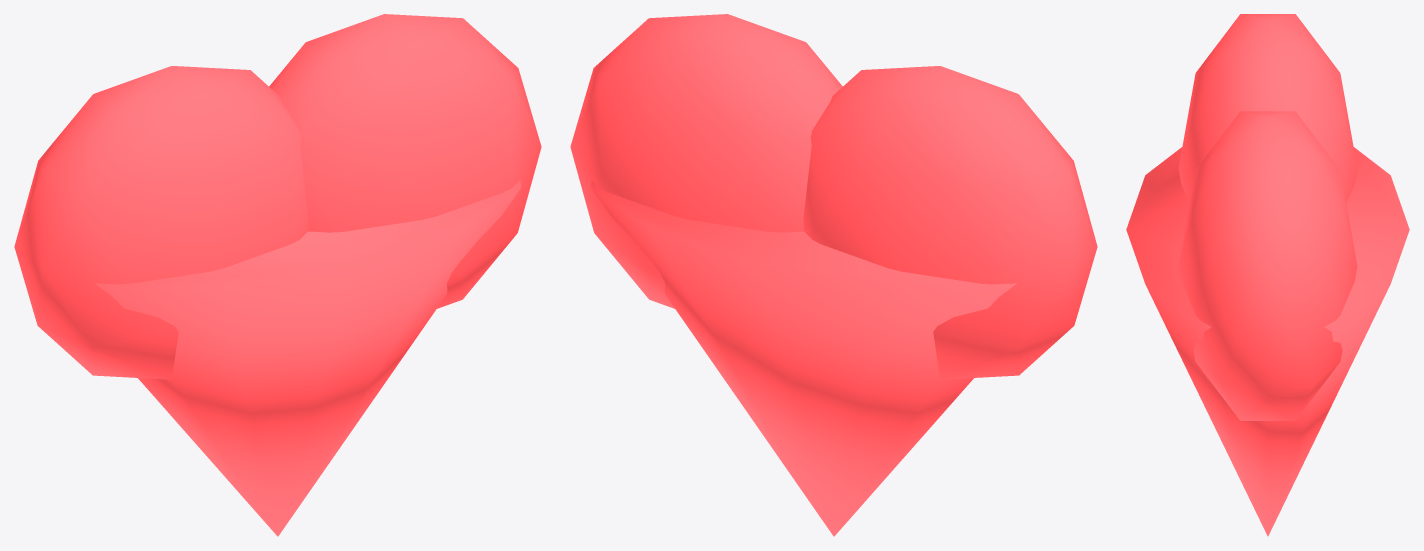
Rendered from heart.glb.
3 views of the same model, side by side, from view 1: azimuth 30°, elevation 25°; view 2: azimuth 150°, elevation 25°; view 3: azimuth 270°, elevation 25° (orthographic). The views are drawn at different scales.
Parts seen in each view (by area): view 1: heart; view 2: heart; view 3: heart.
Part boxes in pixels (x1=…): heart: x1=14, y1=14, x2=541, y2=536; heart: x1=570, y1=14, x2=1097, y2=536; heart: x1=1126, y1=14, x2=1409, y2=536.
Bounding box in the file's own units: 0.7965 × 0.76 × 0.418.
